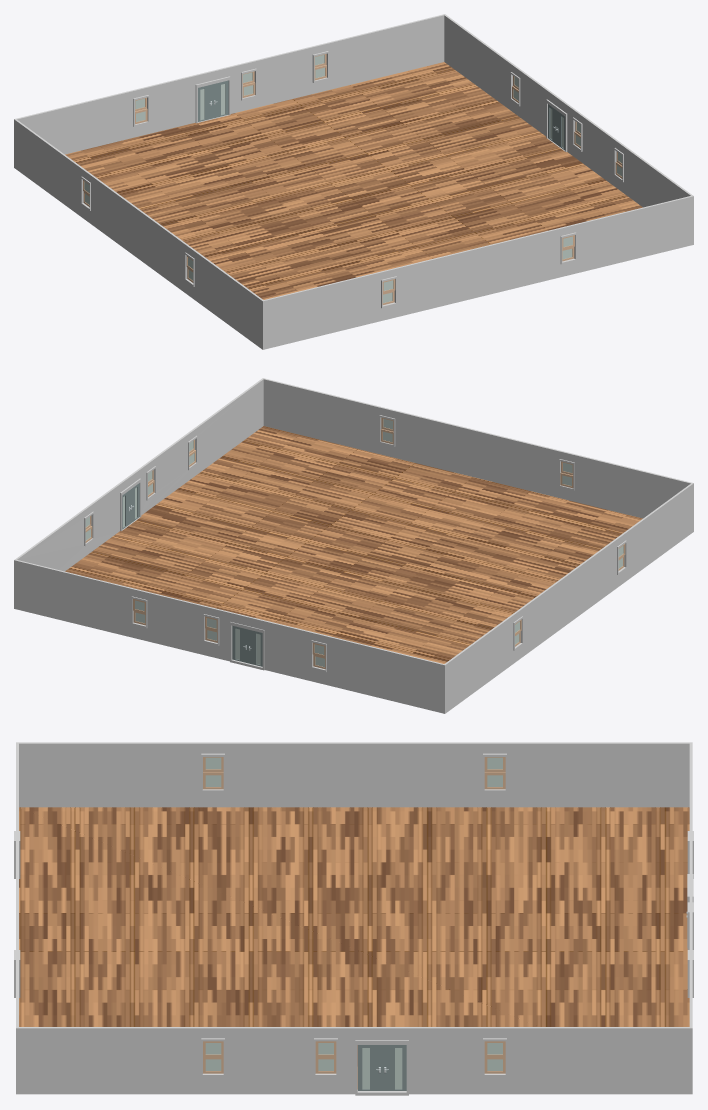
File: ExteriorBuilding.fbx
The picture shows the model from 3 angles, top to bottom: view 1: azimuth 30°, elevation 25°; view 2: azimuth 150°, elevation 25°; view 3: azimuth 270°, elevation 25°; orthographic projection. The views are drawn at different scales.
Visible parts, largest first — view 1: Building.132, New Walls, North Door.001, North Door; view 2: Building.132, New Walls, North Door.001, North Door; view 3: Building.132, New Walls, East Door, East Door.001.
Part boxes in pixels (<box>): Building.132: <box>65,62,642,299</box>; New Walls: <box>14,14,693,349</box>; North Door.001: <box>213,80,228,118</box>; North Door: <box>198,84,212,121</box>; Building.132: <box>65,426,642,663</box>; New Walls: <box>14,378,693,713</box>; North Door.001: <box>232,625,247,663</box>; North Door: <box>248,629,262,666</box>; Building.132: <box>19,807,689,1089</box>; New Walls: <box>14,742,693,1095</box>; East Door: <box>382,1045,406,1090</box>; East Door.001: <box>358,1045,382,1090</box>.
Bounding box in the file's own units: 1207 × 130 × 1207.
7 materials, 1 textured.
